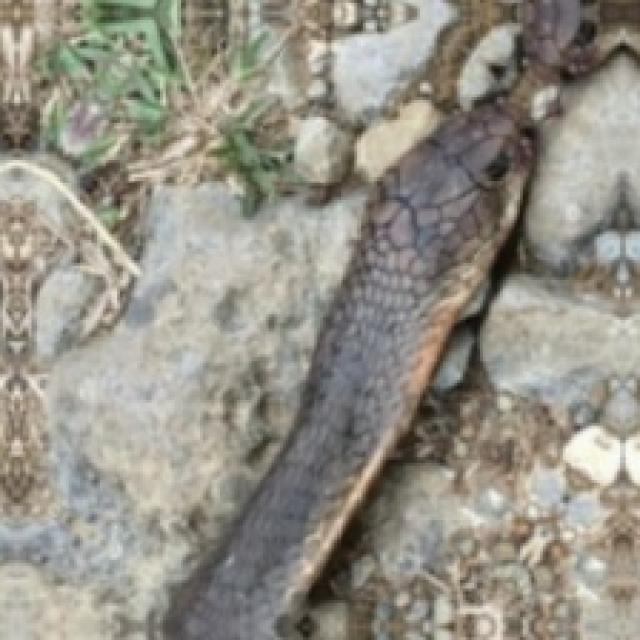king cobra: (166, 0, 577, 637)
